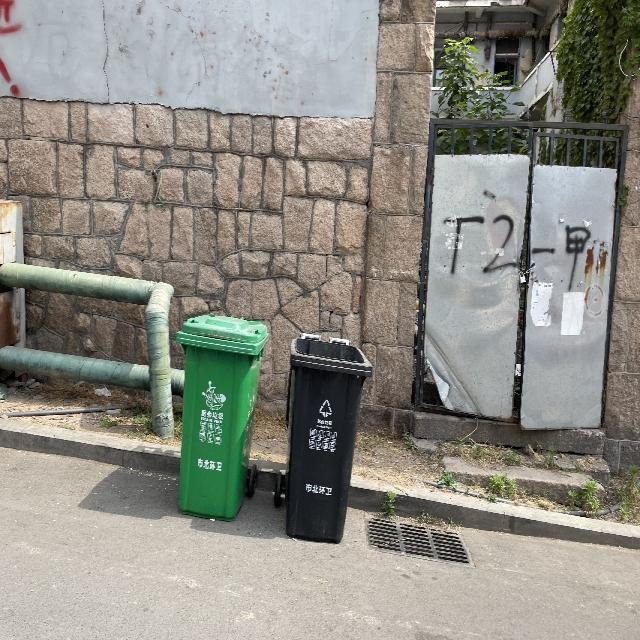garbage_bin: (175, 312, 268, 522), (284, 333, 372, 543)
